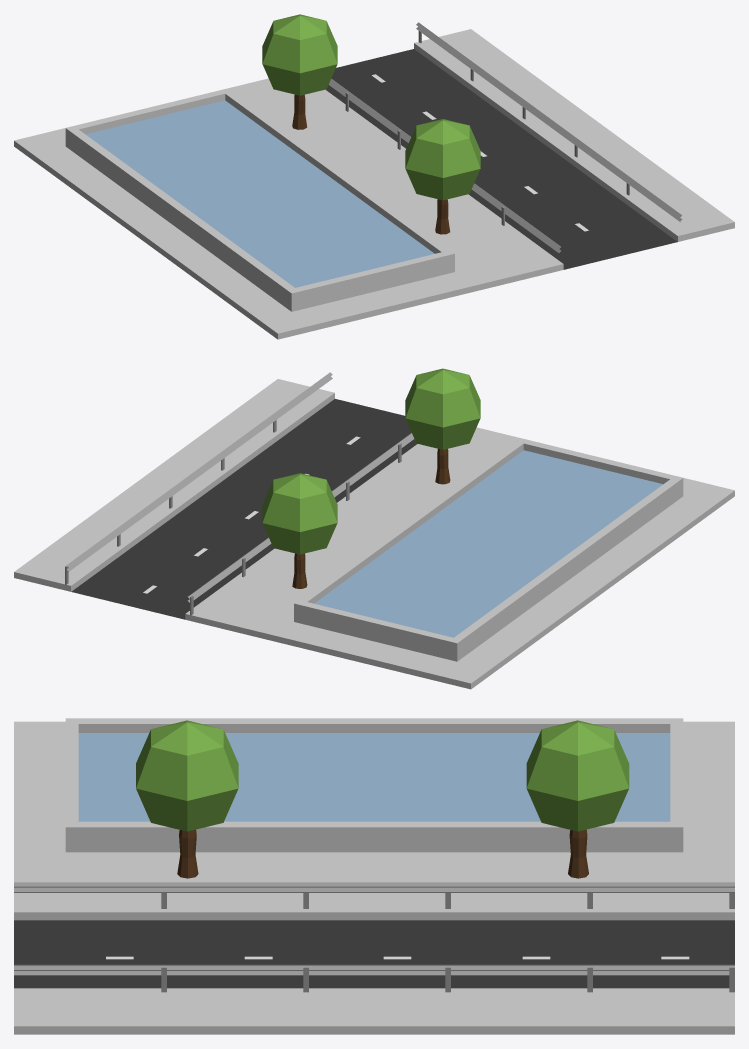
Rendered from bloque.fbx.
3 views of the same model, one above another, from view 1: azimuth 30°, elevation 25°; view 2: azimuth 150°, elevation 25°; view 3: azimuth 270°, elevation 25° (orthographic). The views are drawn at different scales.
Visible parts, largest first — view 1: Plane, Plane.004, Plane.001, Sphere.001, Sphere, Plane.002; view 2: Plane, Plane.004, Plane.001, Sphere.001, Sphere, Plane.002; view 3: Plane, Plane.001, Plane.004, Plane.002, Sphere, Sphere.001, Cylinder, Cylinder.001, Plane.003.
Boxes of the visible parts, left/top/right/bottom form: Plane: left=14, top=29, right=734, bottom=339; Plane.004: left=86, top=100, right=434, bottom=287; Plane.001: left=326, top=49, right=677, bottom=269; Sphere.001: left=405, top=119, right=480, bottom=200; Sphere: left=262, top=14, right=337, bottom=95; Plane.002: left=328, top=22, right=682, bottom=252; Plane: left=14, top=379, right=734, bottom=689; Plane.004: left=314, top=450, right=662, bottom=637; Plane.001: left=71, top=399, right=417, bottom=619; Sphere.001: left=405, top=368, right=480, bottom=449; Sphere: left=262, top=473, right=337, bottom=554; Plane.002: left=65, top=372, right=414, bottom=615; Plane: left=14, top=718, right=734, bottom=1034; Plane.001: left=14, top=920, right=734, bottom=988; Plane.004: left=78, top=733, right=670, bottom=821; Plane.002: left=14, top=882, right=734, bottom=992; Sphere: left=526, top=720, right=629, bottom=831; Sphere.001: left=136, top=720, right=238, bottom=831; Cylinder: left=568, top=829, right=588, bottom=878; Cylinder.001: left=177, top=829, right=198, bottom=878; Plane.003: left=106, top=956, right=689, bottom=959.
Size of the model in its own units: 2 by 0.4895 by 2.
